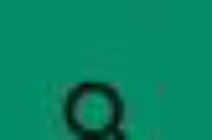ImgButton: (1, 1, 211, 139)
